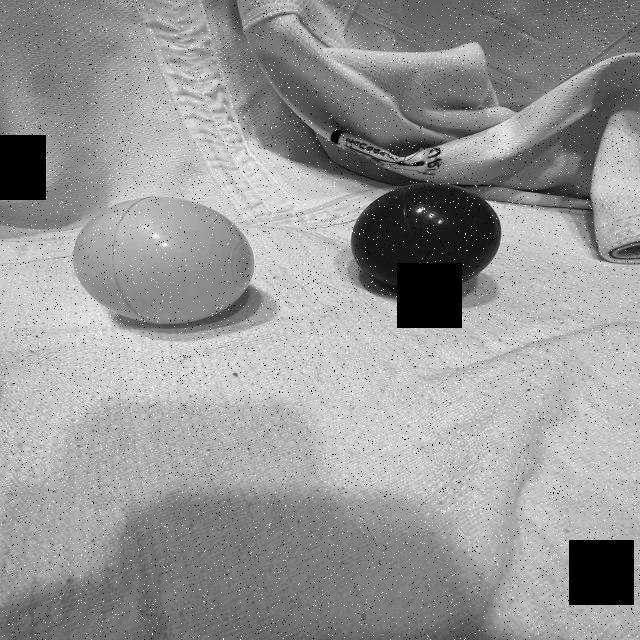ball: (70, 194, 260, 329), (348, 179, 504, 300)
